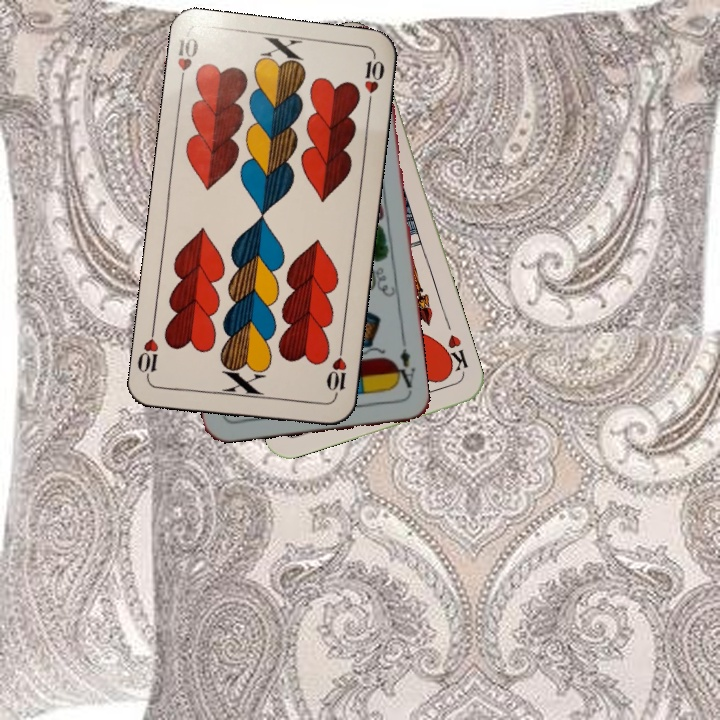EA: (390, 345, 418, 396)
H10: (173, 34, 202, 91), (322, 343, 350, 402)
HK: (437, 330, 471, 378)
